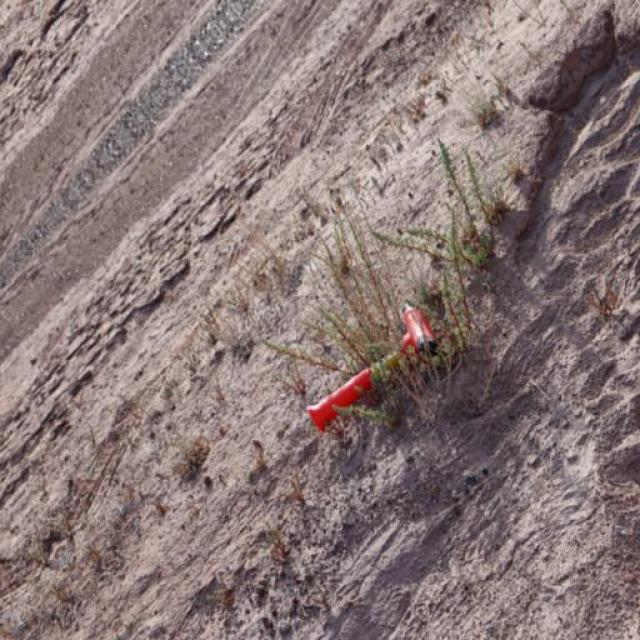mallet: (305, 302, 439, 432)
